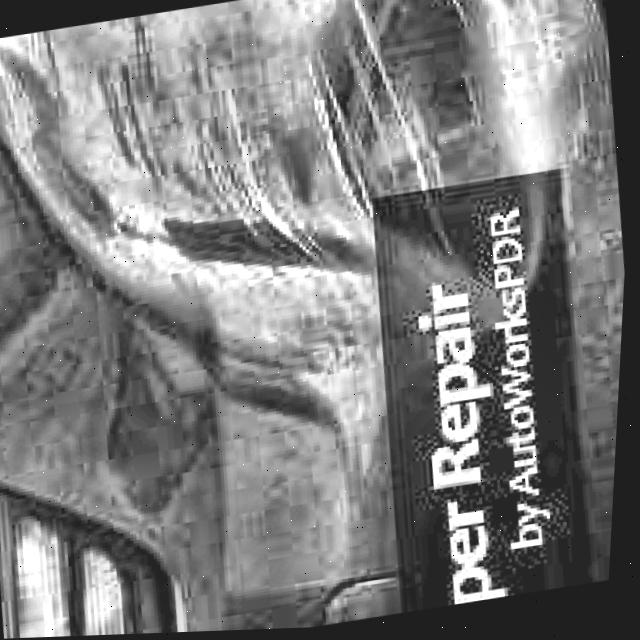bumper_dent: (95, 243, 397, 510)
